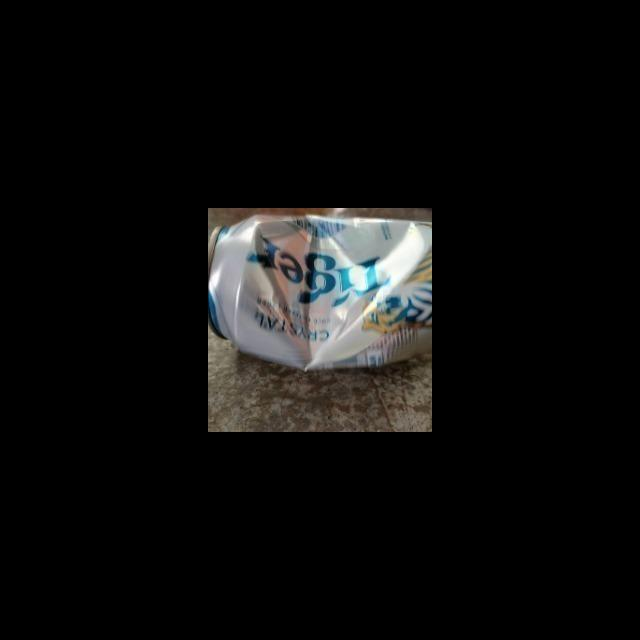metal: (208, 208, 432, 387)
